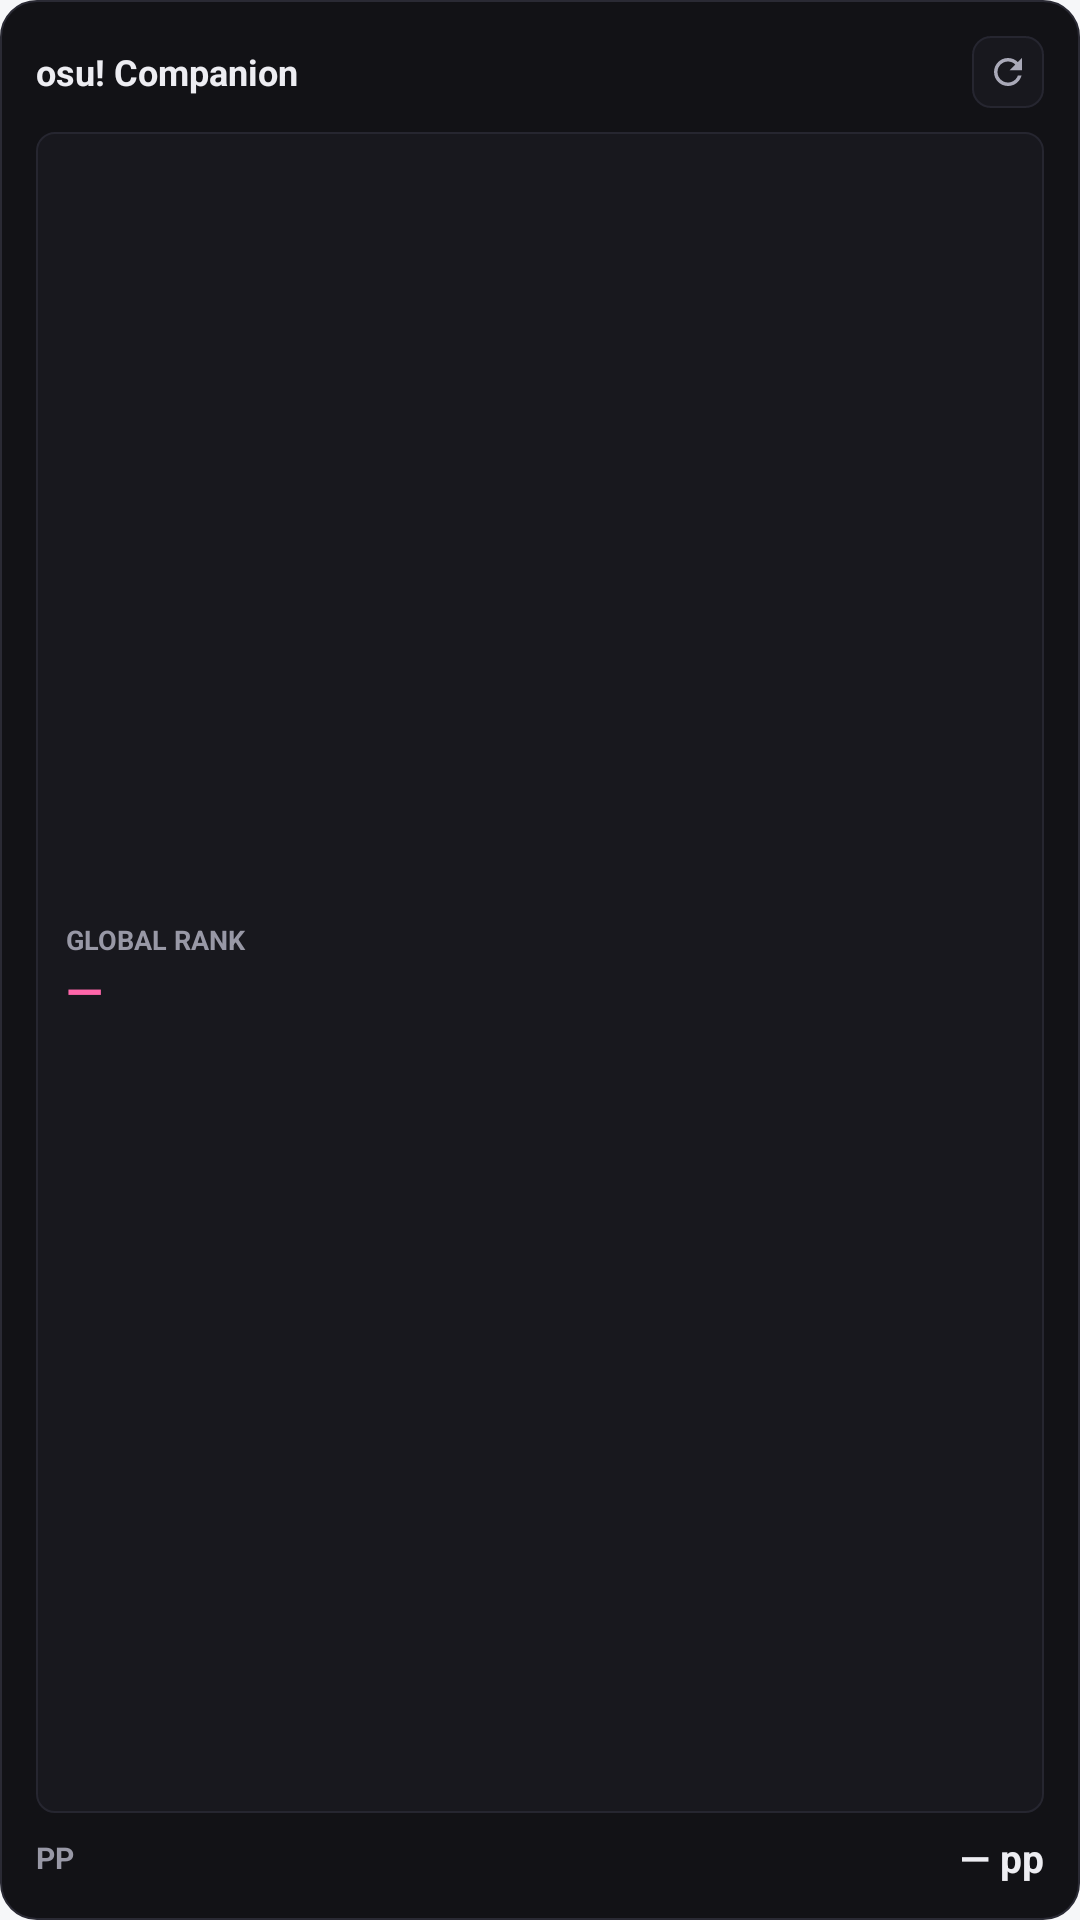

Screen size 1080 x 1920. Icon name, then its box in pixels as [x1, y1, x2, y2]:
Refresh stats: [972, 36, 1044, 108]
